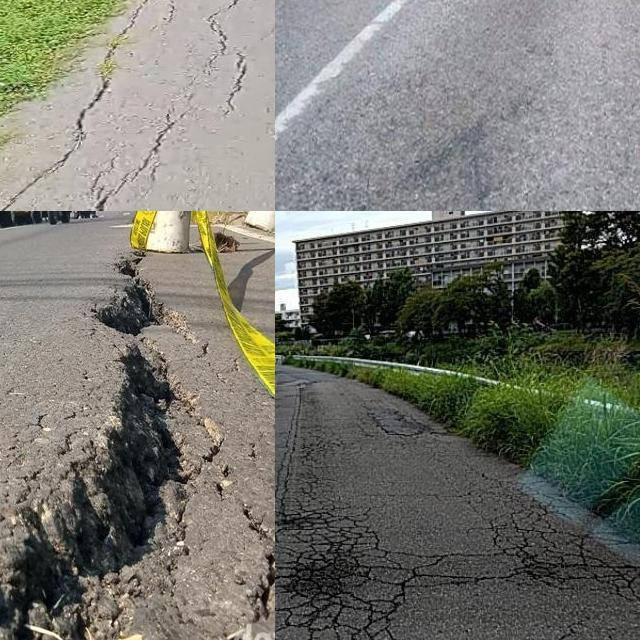Memanjang: (78, 64, 239, 211)
Pinggir: (0, 217, 232, 640)
Retak Buaya: (275, 506, 429, 640), (479, 494, 640, 602)
